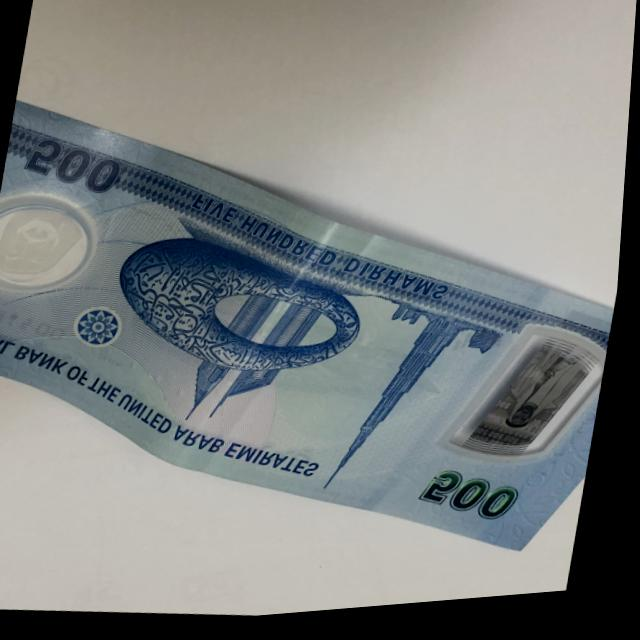500_AED: (0, 94, 613, 554)
